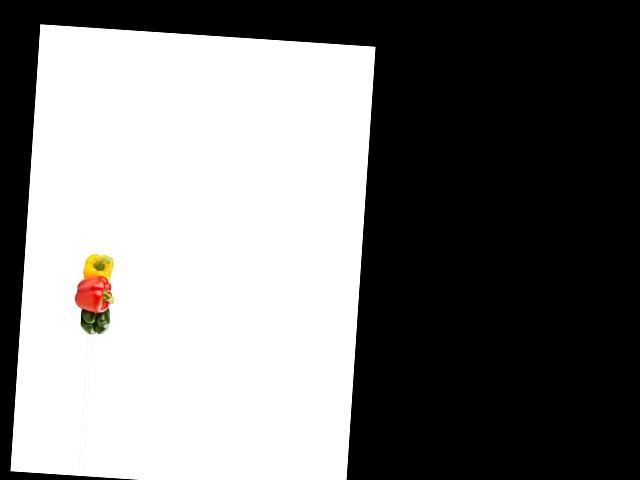bell_pepper: (77, 250, 117, 283)
